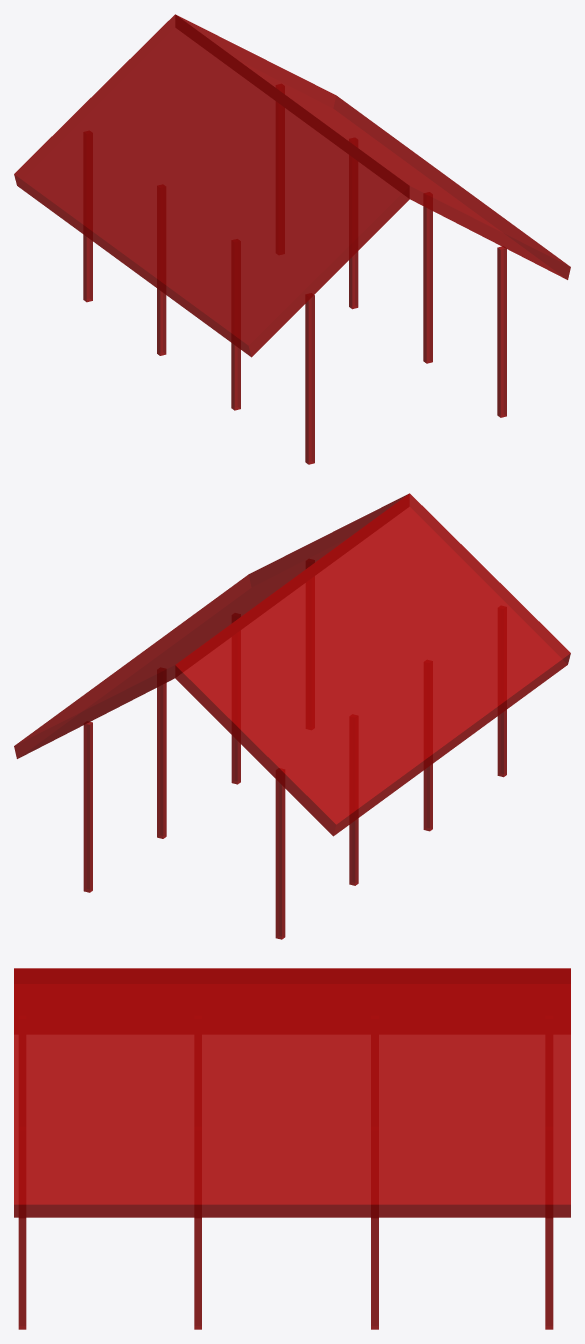
File: SM_Bld_Tent_Shelter_01_Collision.fbx
The picture shows the model from 3 angles, top to bottom: view 1: azimuth 30°, elevation 25°; view 2: azimuth 150°, elevation 25°; view 3: azimuth 270°, elevation 25°; orthographic projection. The views are drawn at different scales.
Parts seen in each view (by area): view 1: SM_Bld_Tent_Shelter_01_Collision; view 2: SM_Bld_Tent_Shelter_01_Collision; view 3: SM_Bld_Tent_Shelter_01_Collision.
Boxes of the visible parts, <box> form: SM_Bld_Tent_Shelter_01_Collision: <box>14,14,570,464</box>; SM_Bld_Tent_Shelter_01_Collision: <box>14,493,570,939</box>; SM_Bld_Tent_Shelter_01_Collision: <box>14,968,570,1329</box>.
Bounding box in the file's own units: 755 × 573 × 952.
